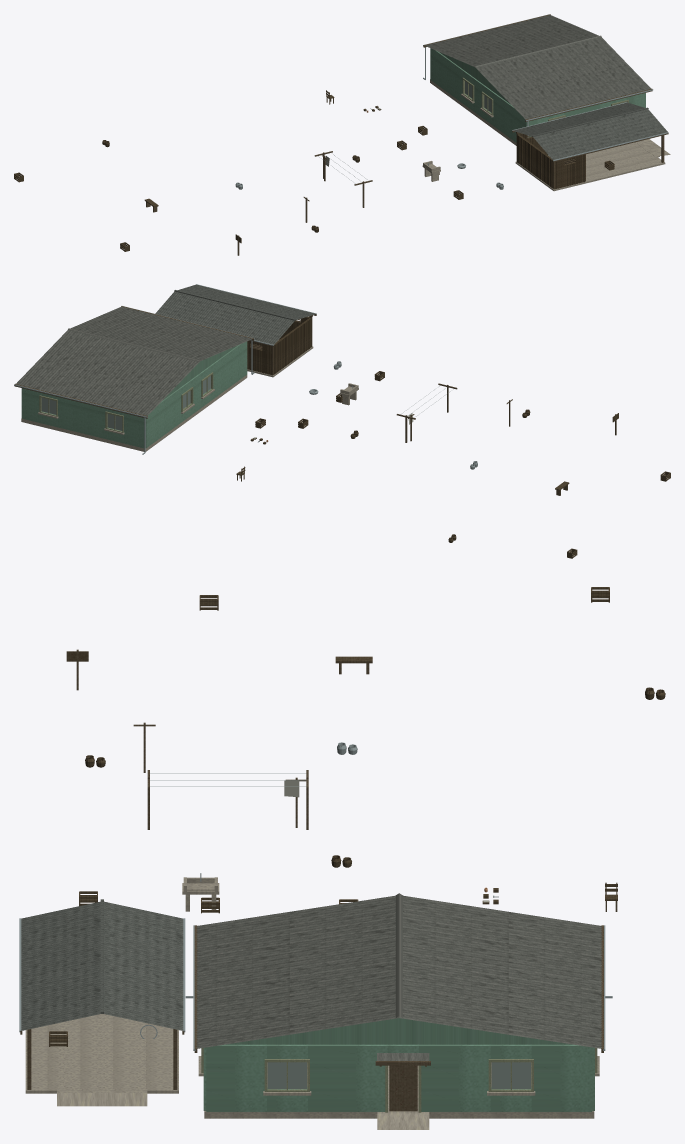
3 renders of one model, top to bottom at view 1: azimuth 30°, elevation 25°; view 2: azimuth 150°, elevation 25°; view 3: azimuth 270°, elevation 25°, orthographic. The views are drawn at different scales.
Visible parts, largest first — view 1: H13_CHAPAS_ONDULADAS, H13_GARAGEM_COBERTURA, H13_FUNDOS, H13_GARAGEM_BASE, H13_GARAGEM_DEPOSITO_MATA_JUNTAS, H13_GARAGEM_DEPOSITO_FUNDOS, H13_GARAGEM_DEPOSITO_LATERAL, H13_LATERAIS, H13_BEIRAIS, H13_OITOES, H13_CAIXILHOS; view 2: H13_CHAPAS_ONDULADAS, H13_GARAGEM_COBERTURA, H13_FUNDOS, H13_LATERAIS, H13_GARAGEM_DEPOSITO_MATA_JUNTAS, H13_GARAGEM_DEPOSITO_FUNDOS, H13_FUNDACAO, H13_GARAGEM_DEPOSITO_LATERAL, H13_VIDROS_RECUADOS, H13_CAIXILHOS, H13_BEIRAIS, H13_OITOES; view 3: H13_CHAPAS_ONDULADAS, H13_FACHADA, H13_GARAGEM_COBERTURA, H13_GARAGEM_BASE, H13_OITOES, H13_FUNDACAO, H13_VIDROS_RECUADOS, H13_PORTA_FOLHA, H13_GARAGEM_RAMPA, H13_CAIXILHOS, H13_CUMEEIRA, H13_RAMPA (+1 smaller).
Part boxes in pixels (bbox=[...]): H13_CHAPAS_ONDULADAS: bbox=[425, 15, 651, 119]; H13_GARAGEM_COBERTURA: bbox=[513, 102, 667, 159]; H13_FUNDOS: bbox=[430, 48, 527, 142]; H13_GARAGEM_BASE: bbox=[515, 142, 665, 191]; H13_GARAGEM_DEPOSITO_MATA_JUNTAS: bbox=[517, 135, 584, 188]; H13_GARAGEM_DEPOSITO_FUNDOS: bbox=[517, 134, 553, 188]; H13_GARAGEM_DEPOSITO_LATERAL: bbox=[519, 133, 585, 188]; H13_LATERAIS: bbox=[528, 93, 645, 136]; H13_BEIRAIS: bbox=[423, 14, 652, 121]; H13_OITOES: bbox=[439, 52, 510, 104]; H13_CAIXILHOS: bbox=[462, 77, 628, 121]; H13_CHAPAS_ONDULADAS: bbox=[16, 306, 252, 415]; H13_GARAGEM_COBERTURA: bbox=[155, 284, 315, 344]; H13_FUNDOS: bbox=[145, 341, 247, 448]; H13_LATERAIS: bbox=[22, 388, 144, 448]; H13_GARAGEM_DEPOSITO_MATA_JUNTAS: bbox=[248, 319, 311, 374]; H13_GARAGEM_DEPOSITO_FUNDOS: bbox=[273, 318, 311, 374]; H13_FUNDACAO: bbox=[21, 375, 247, 451]; H13_GARAGEM_DEPOSITO_LATERAL: bbox=[247, 316, 309, 374]; H13_VIDROS_RECUADOS: bbox=[41, 376, 210, 430]; H13_CAIXILHOS: bbox=[39, 372, 213, 432]; H13_BEIRAIS: bbox=[14, 306, 253, 418]; H13_OITOES: bbox=[163, 345, 237, 399]; H13_CHAPAS_ONDULADAS: bbox=[196, 895, 601, 1048]; H13_FACHADA: bbox=[206, 1044, 592, 1111]; H13_GARAGEM_COBERTURA: bbox=[21, 901, 183, 1030]; H13_GARAGEM_BASE: bbox=[25, 1016, 178, 1093]; H13_OITOES: bbox=[226, 1018, 572, 1044]; H13_FUNDACAO: bbox=[204, 1062, 594, 1118]; H13_VIDROS_RECUADOS: bbox=[267, 1062, 530, 1088]; H13_PORTA_FOLHA: bbox=[389, 1065, 417, 1111]; H13_GARAGEM_RAMPA: bbox=[57, 1093, 147, 1106]; H13_CAIXILHOS: bbox=[201, 1048, 597, 1091]; H13_CUMEEIRA: bbox=[395, 893, 402, 1017]; H13_RAMPA: bbox=[377, 1113, 429, 1129].
Bounding box in the file's own units: 45.82 × 4.28 × 23.61.
13 materials, 8 textured.
